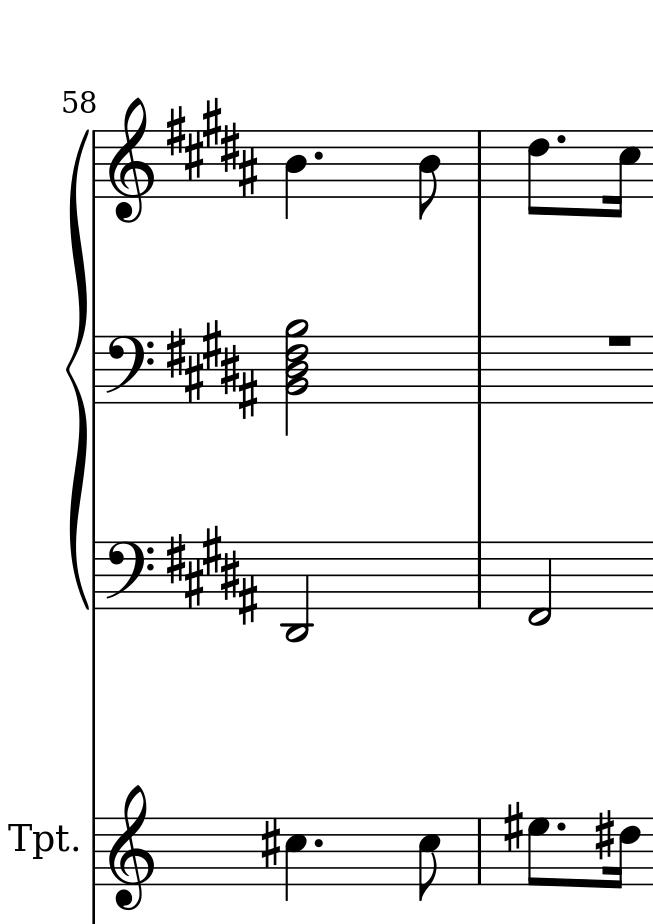16_5: (604, 130, 640, 220)
16_6: (609, 818, 643, 889)
2_-1: (528, 537, 553, 629)
2_-3: (283, 540, 312, 645)
2_4th: (285, 319, 308, 434)
4_4: (284, 127, 309, 222)
4_5: (283, 815, 307, 905)
5: (61, 88, 79, 116)
8: (78, 88, 97, 116)
8_4: (417, 130, 441, 221)
8_5: (417, 816, 442, 902)
8_6: (526, 128, 550, 219)
8_7: (525, 815, 550, 888)
B_S: (163, 524, 262, 626), (166, 315, 259, 421), (165, 94, 257, 198)
Brace: (63, 127, 90, 612)
Fclef: (105, 540, 154, 611), (106, 334, 153, 405)
Gclef: (108, 97, 155, 223), (108, 785, 153, 910)
Rests1: (604, 332, 635, 349)
Sharp: (259, 817, 282, 872), (593, 809, 616, 861), (502, 801, 524, 854)
Single_barline: (471, 131, 487, 197), (471, 336, 487, 401), (472, 817, 487, 884), (472, 541, 486, 608), (89, 813, 101, 889), (89, 542, 102, 609), (89, 132, 102, 198), (89, 337, 102, 403)
Tpt: (6, 817, 65, 864)
dot: (554, 819, 568, 834), (311, 836, 325, 850), (554, 132, 567, 146), (311, 149, 325, 162)
